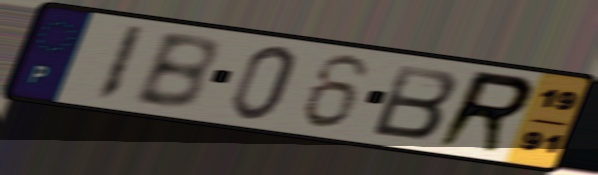0: (226, 43, 301, 123)
6: (299, 52, 372, 132)
B: (368, 61, 463, 141), (128, 32, 220, 113)
I: (91, 22, 149, 105)
R: (430, 68, 539, 158)
